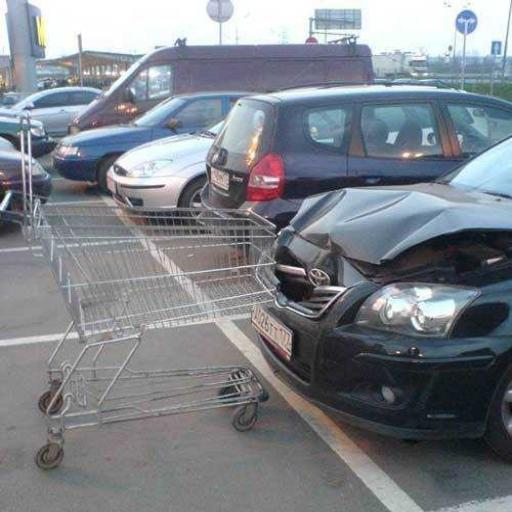shopping_cart: (1, 188, 282, 471)
